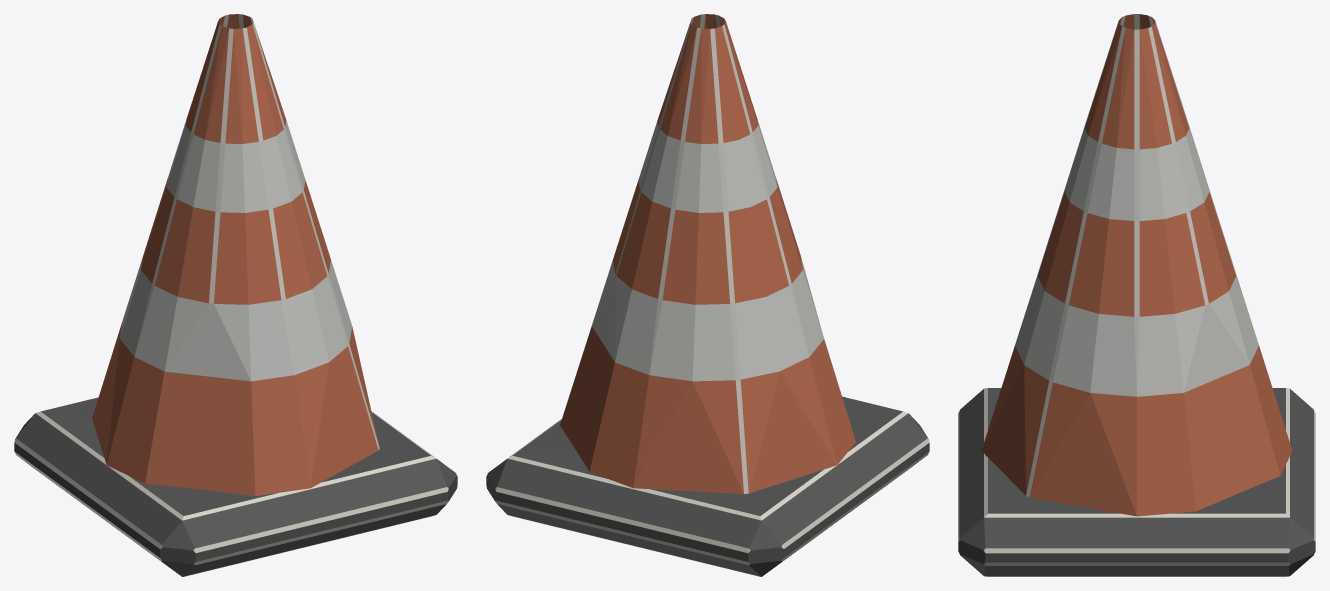
3 renders of one model, left to right at view 1: azimuth 30°, elevation 25°; view 2: azimuth 150°, elevation 25°; view 3: azimuth 270°, elevation 25°, orthographic. The views are drawn at different scales.
Visible parts, largest first — view 1: Body.010; view 2: Body.010; view 3: Body.010.
Boxes of the visible parts, box(x1,y1,x2,y2) form: Body.010: box(14, 14, 457, 576); Body.010: box(486, 14, 929, 576); Body.010: box(958, 14, 1315, 576).
Size of the model in its own units: 0.46 by 0.7 by 0.46.
